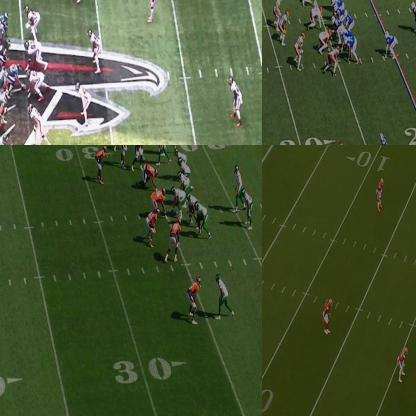CENTER: (12, 62, 28, 87), (171, 188, 184, 214), (330, 15, 340, 34)
DB: (228, 78, 246, 128), (188, 277, 201, 320), (144, 0, 160, 24), (323, 301, 331, 333), (378, 177, 385, 209)
LB: (88, 26, 103, 75), (75, 82, 91, 125), (166, 217, 181, 258), (148, 208, 159, 244), (280, 11, 291, 46), (98, 145, 108, 183), (296, 34, 306, 71), (397, 348, 407, 382), (272, 0, 282, 27), (120, 145, 127, 168)
QB: (234, 165, 242, 211), (344, 8, 355, 31)
SKILL: (25, 103, 55, 144), (214, 277, 230, 318), (25, 7, 43, 42), (243, 187, 252, 230), (384, 30, 396, 58), (174, 147, 190, 165), (156, 145, 167, 168), (0, 5, 11, 22), (411, 2, 415, 36), (381, 135, 396, 144), (328, 0, 343, 4)
